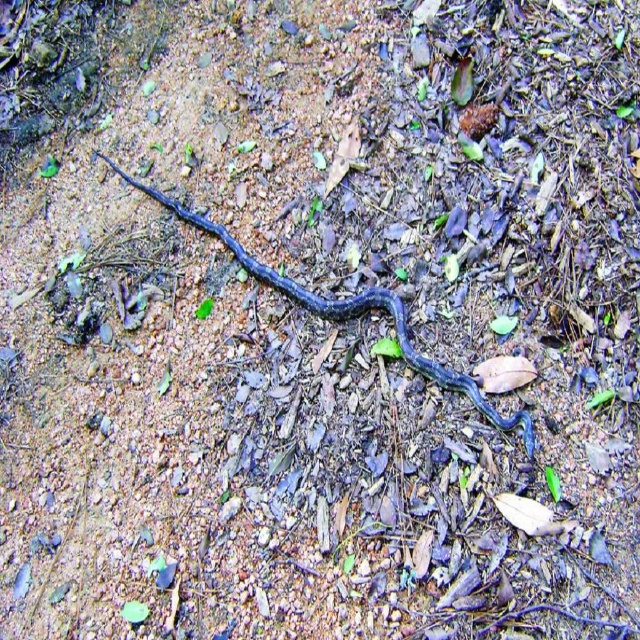Snake: (79, 139, 540, 497)
